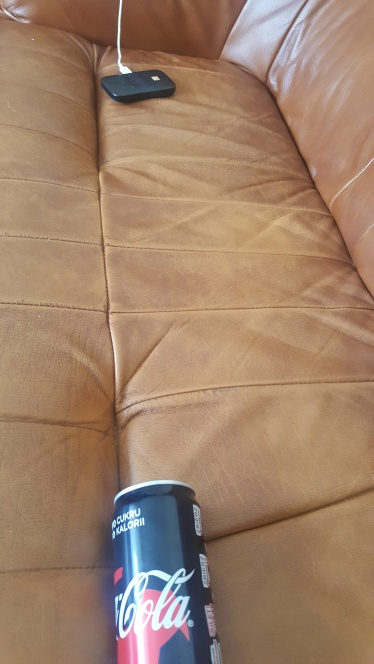colazero: (98, 475, 227, 664)
